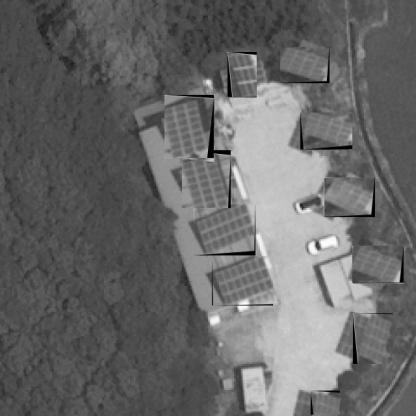solar-pv-panel: (194, 204, 255, 255), (212, 256, 273, 306), (164, 97, 210, 158), (182, 153, 229, 208), (324, 177, 374, 216), (352, 246, 403, 283), (356, 314, 393, 364), (302, 112, 352, 147), (280, 47, 329, 82), (228, 54, 257, 97), (313, 391, 340, 415)
